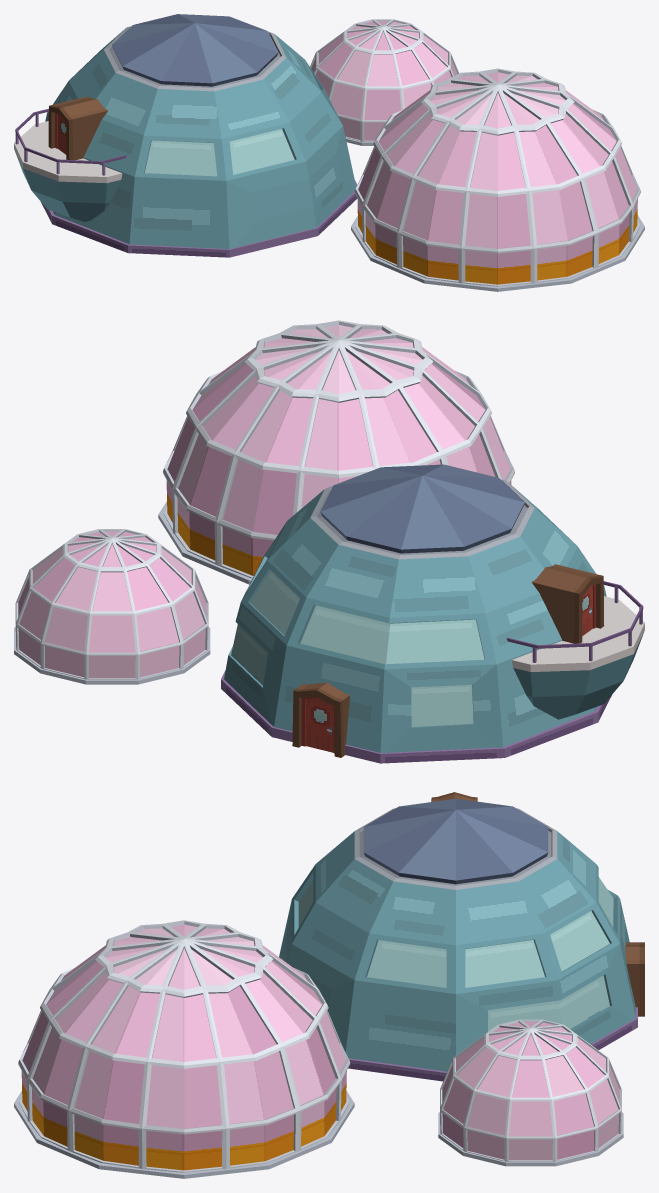
Rendered from W.house_Blue.gltf.
The picture shows the model from 3 angles, top to bottom: view 1: azimuth 30°, elevation 25°; view 2: azimuth 150°, elevation 25°; view 3: azimuth 270°, elevation 25°; orthographic projection. The views are drawn at different scales.
Visible parts, largest first — view 1: s4_1, sphere_1, sphere_2; view 2: s4_1, sphere_1, sphere_2; view 3: s4_1, sphere_1, sphere_2.
Part boxes in pixels (<box>): s4_1: <box>14,14,357,257</box>; sphere_1: <box>351,68,644,291</box>; sphere_2: <box>310,19,459,145</box>; s4_1: <box>221,464,644,763</box>; sphere_1: <box>158,320,514,584</box>; sphere_2: <box>14,529,210,684</box>; s4_1: <box>279,792,644,1081</box>; sphere_1: <box>14,920,354,1178</box>; sphere_2: <box>438,1019,623,1166</box>.
Size of the model in its own units: 7.82 by 2.57 by 7.61.
3 materials, 3 textured.
